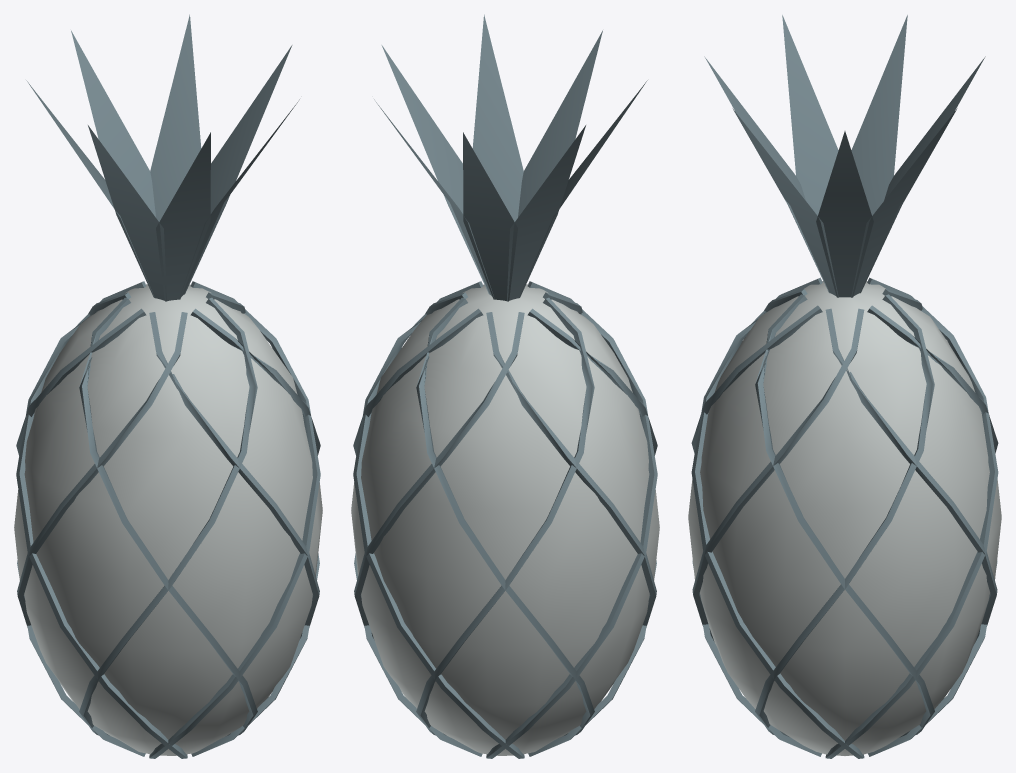
Rendered from pineapple.glb.
3 views of the same model, side by side, from view 1: azimuth 30°, elevation 25°; view 2: azimuth 150°, elevation 25°; view 3: azimuth 270°, elevation 25° (orthographic).
Visible parts, largest first — view 1: pineapple_body, crown_leaf.006, crown_leaf.002, diamond_rind_seam.001, diamond_rind_seam.009, crown_leaf.003, crown_leaf.005, diamond_rind_seam.002, diamond_rind_seam.008, crown_leaf, diamond_rind_seam.003, diamond_rind_seam.007 (+6 smaller); view 2: pineapple_body, crown_leaf.001, crown_leaf.005, diamond_rind_seam.003, diamond_rind_seam.011, crown_leaf.004, crown_leaf.002, diamond_rind_seam.004, diamond_rind_seam.010, crown_leaf, diamond_rind_seam.005, diamond_rind_seam.009 (+6 smaller); view 3: pineapple_body, crown_leaf, crown_leaf.003, crown_leaf.004, diamond_rind_seam.005, diamond_rind_seam.007, diamond_rind_seam, diamond_rind_seam.006, diamond_rind_seam.001, diamond_rind_seam.011, crown_leaf.001, crown_leaf.006 (+6 smaller).
Boxes of the visible parts, box(x1,y1,x2,y2) form: pineapple_body: box(14, 284, 322, 755); crown_leaf.006: box(150, 14, 201, 221); crown_leaf.002: box(156, 132, 210, 301); diamond_rind_seam.001: box(149, 281, 320, 758); diamond_rind_seam.009: box(16, 281, 187, 758); crown_leaf.003: box(88, 125, 167, 301); crown_leaf.005: box(71, 30, 155, 217); diamond_rind_seam.002: box(79, 297, 257, 735); diamond_rind_seam.008: box(79, 297, 257, 735); crown_leaf: box(184, 45, 292, 294); diamond_rind_seam.003: box(17, 312, 187, 627); diamond_rind_seam.007: box(149, 312, 319, 638); pineapple_body: box(351, 284, 659, 755); crown_leaf.001: box(472, 14, 523, 221); crown_leaf.005: box(463, 132, 517, 301); diamond_rind_seam.003: box(486, 281, 657, 758); diamond_rind_seam.011: box(353, 281, 524, 758); crown_leaf.004: box(506, 125, 585, 301); crown_leaf.002: box(518, 30, 602, 217); diamond_rind_seam.004: box(416, 297, 594, 735); diamond_rind_seam.010: box(416, 297, 594, 735); crown_leaf: box(381, 45, 489, 294); diamond_rind_seam.005: box(354, 312, 524, 638); diamond_rind_seam.009: box(486, 312, 656, 627); pineapple_body: box(688, 281, 1001, 755); crown_leaf: box(816, 131, 873, 297); crown_leaf.003: box(782, 15, 838, 215); crown_leaf.004: box(851, 15, 907, 215); diamond_rind_seam.005: box(825, 277, 998, 758); diamond_rind_seam.007: box(691, 277, 864, 758); diamond_rind_seam: box(755, 294, 934, 736); diamond_rind_seam.006: box(755, 294, 934, 736); diamond_rind_seam.001: box(692, 308, 864, 641); diamond_rind_seam.011: box(825, 308, 997, 641); crown_leaf.001: box(732, 108, 838, 297); crown_leaf.006: box(851, 108, 957, 297).
Bounding box in the file's own units: 0.1347 × 0.31 × 0.13.
